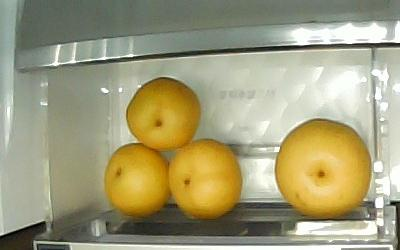pear: (273, 117, 372, 218), (167, 137, 242, 219), (124, 76, 201, 150), (103, 141, 171, 216)
